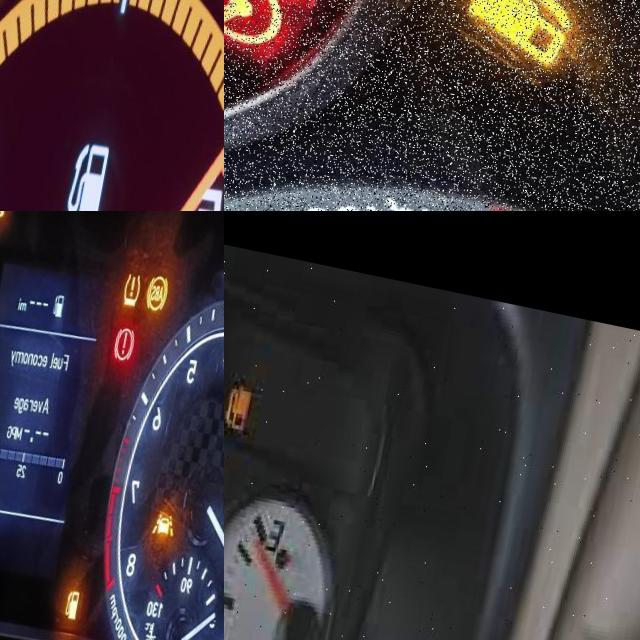Electronic Power Steering: (224, 0, 347, 85)
